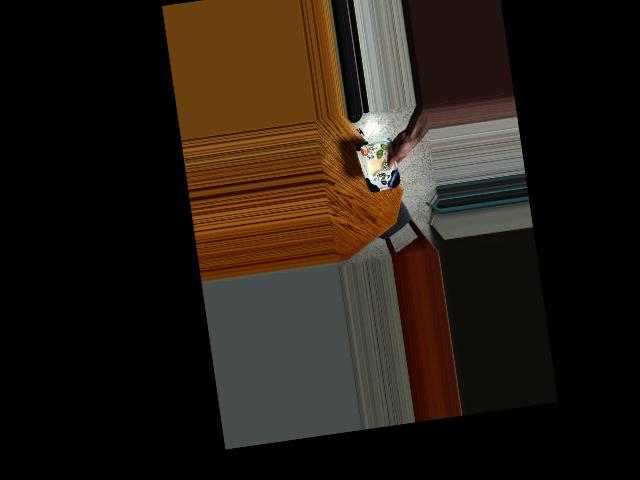cheese: (358, 140, 401, 191)
